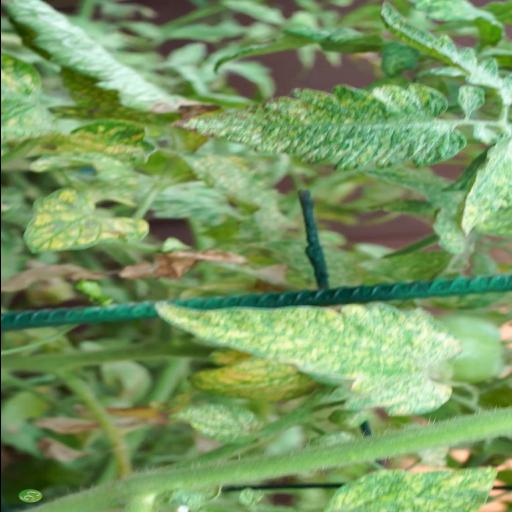disease_tomato: (152, 298, 462, 418), (168, 80, 470, 170), (14, 186, 152, 256), (322, 463, 500, 512), (186, 356, 328, 402), (52, 117, 166, 169), (454, 136, 512, 238), (166, 406, 266, 444)
